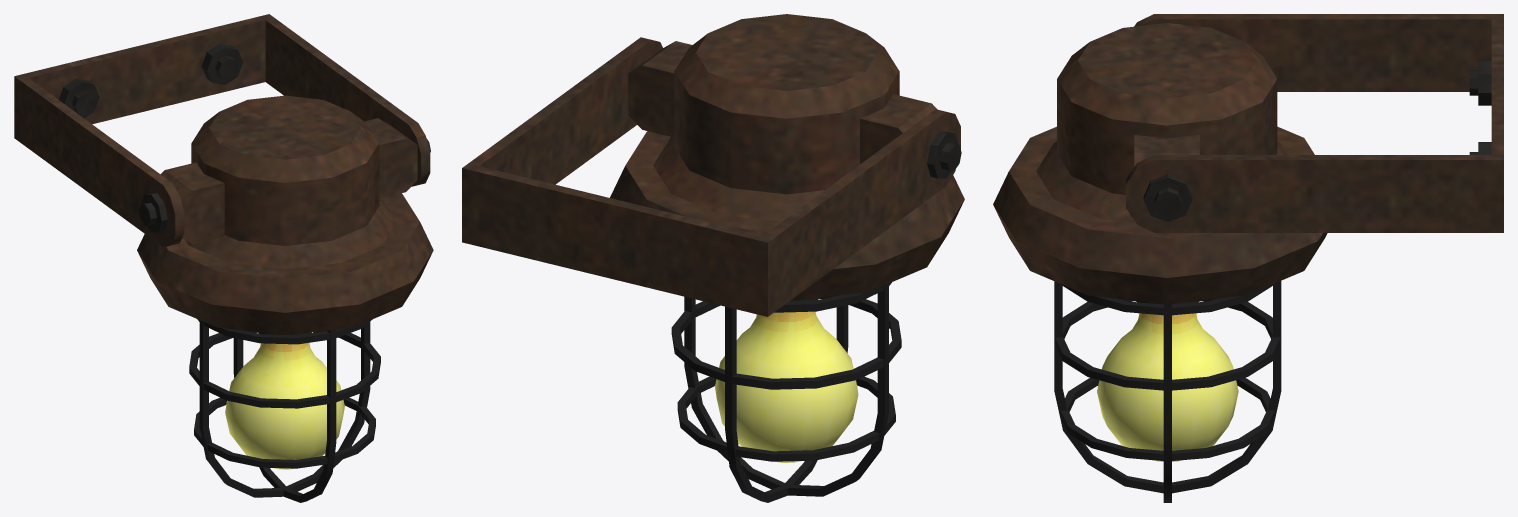
Rendered from lamp_mx_1_b_on.obj.
The picture shows the model from 3 angles, left to right: view 1: azimuth 30°, elevation 25°; view 2: azimuth 150°, elevation 25°; view 3: azimuth 270°, elevation 25°; orthographic projection. The views are drawn at different scales.
Visible parts, largest first — view 1: lamp_mx_1_b_on; view 2: lamp_mx_1_b_on; view 3: lamp_mx_1_b_on.
Boxes of the visible parts, <box> form: lamp_mx_1_b_on: <box>14,14,433,502</box>; lamp_mx_1_b_on: <box>462,14,964,502</box>; lamp_mx_1_b_on: <box>993,14,1503,502</box>.
Bounding box in the file's own units: 0.1876 × 0.2352 × 0.2522.
